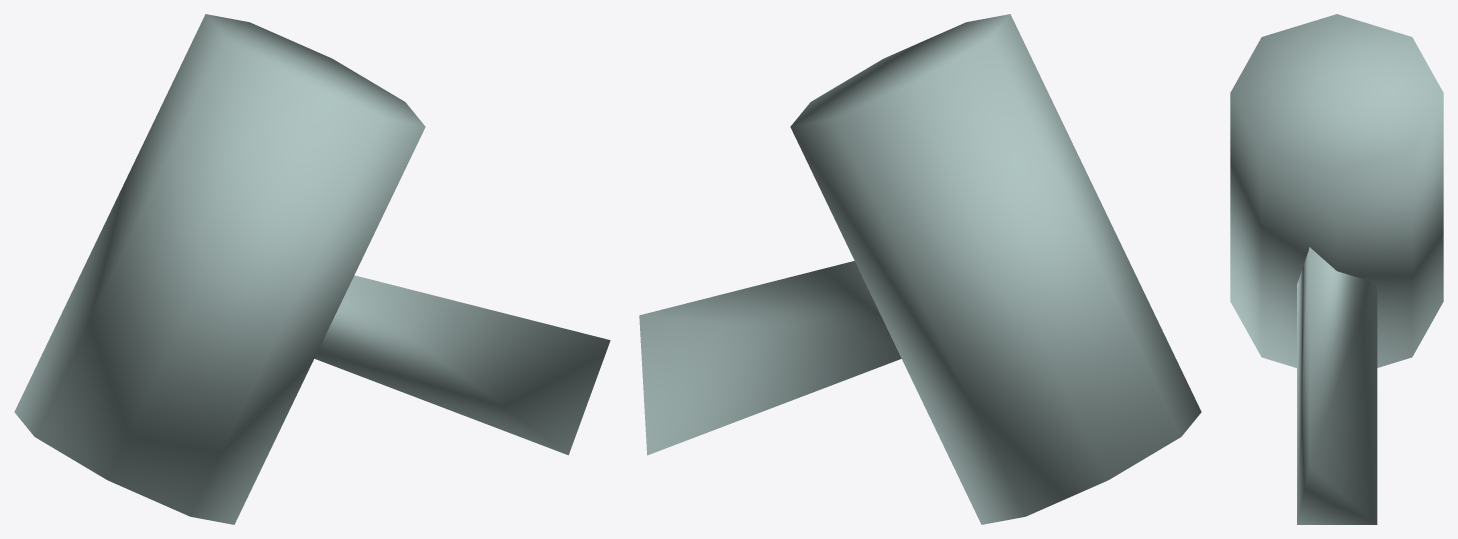
The model's file is hammer_fbx.fbx.
The picture shows the model from 3 angles, left to right: view 1: azimuth 30°, elevation 25°; view 2: azimuth 150°, elevation 25°; view 3: azimuth 270°, elevation 25°; orthographic projection. The views are drawn at different scales.
Parts seen in each view (by area): view 1: hammer; view 2: hammer; view 3: hammer.
Boxes of the visible parts, box(x1,y1,x2,y2) form: hammer: box(14, 14, 610, 524); hammer: box(639, 14, 1201, 524); hammer: box(1230, 14, 1443, 524).
Size of the model in its own units: 15.26 by 12.41 by 6.22.
